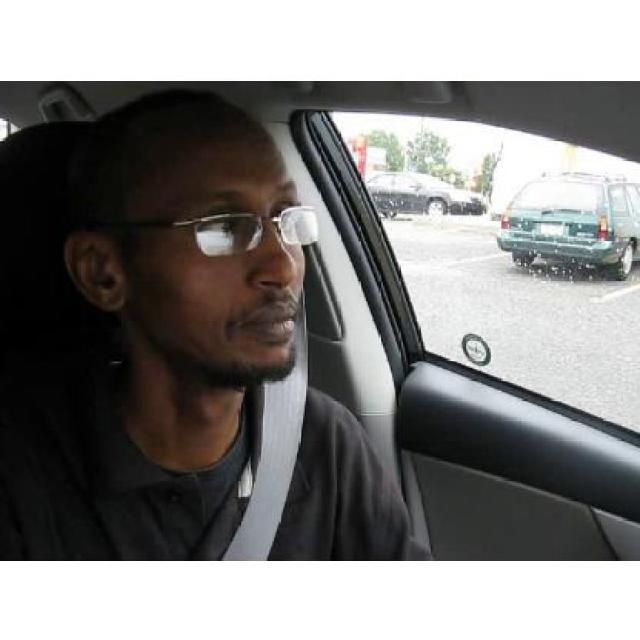attentif: (64, 90, 305, 378)
